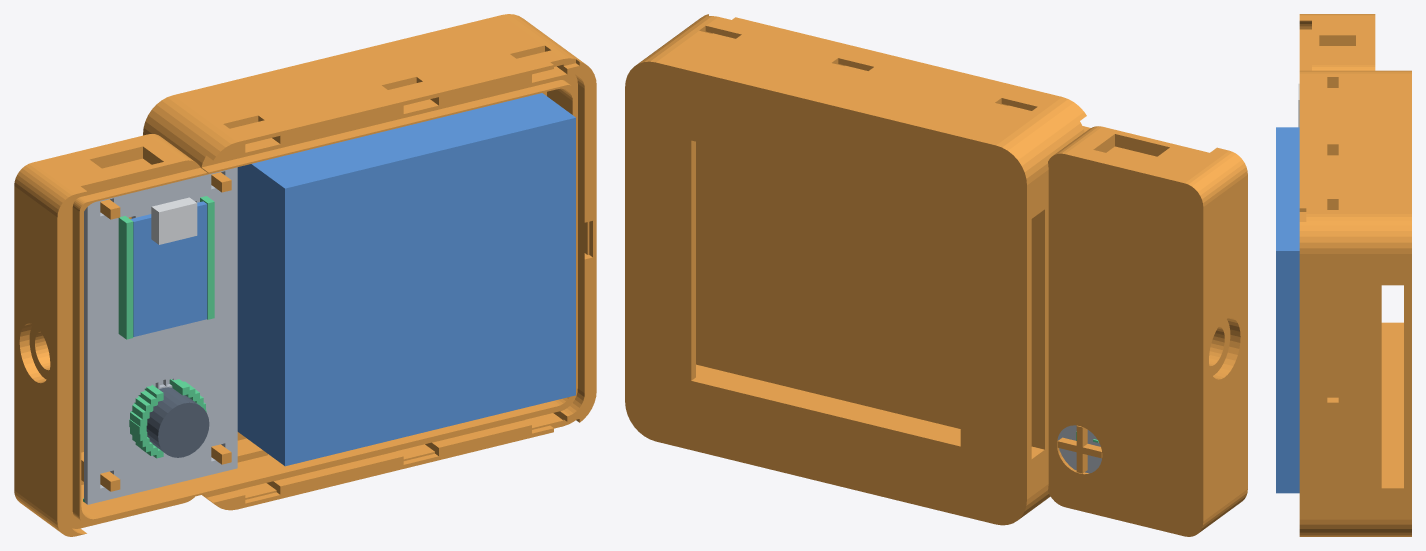
The model's file is SIMULACION_CAPSULA_DERECHA_CON_BATERIA_Y_PLACA.glb.
3 views of the same model, side by side, from view 1: azimuth 30°, elevation 25°; view 2: azimuth 150°, elevation 25°; view 3: azimuth 270°, elevation 25° (orthographic). The views are drawn at different scales.
Parts seen in each view (by area): view 1: Modulo_TP4056_Y_Bateria_Azul, Capsula_Derecha_Actualizada, Baquelita_Potencia_35x70_Gris, Cunas_TP4056_Y_Buzzer_Verde, Buzzer_En_Placa_Negro, Puerto_USBC_Plata; view 2: Capsula_Derecha_Actualizada, Baquelita_Potencia_35x70_Gris; view 3: Capsula_Derecha_Actualizada, Modulo_TP4056_Y_Bateria_Azul.
Part boxes in pixels (box(x1,y1,x2,y2)): Modulo_TP4056_Y_Bateria_Azul: box(130, 93, 575, 466); Capsula_Derecha_Actualizada: box(14, 14, 596, 536); Baquelita_Potencia_35x70_Gris: box(84, 167, 237, 504); Cunas_TP4056_Y_Buzzer_Verde: box(83, 196, 214, 502); Buzzer_En_Placa_Negro: box(146, 387, 209, 457); Puerto_USBC_Plata: box(151, 197, 197, 244); Capsula_Derecha_Actualizada: box(625, 14, 1247, 536); Baquelita_Potencia_35x70_Gris: box(1057, 425, 1101, 473); Capsula_Derecha_Actualizada: box(1299, 14, 1411, 536); Modulo_TP4056_Y_Bateria_Azul: box(1276, 127, 1299, 493).
Bounding box in the file's own units: 126 × 82 × 31.5.
